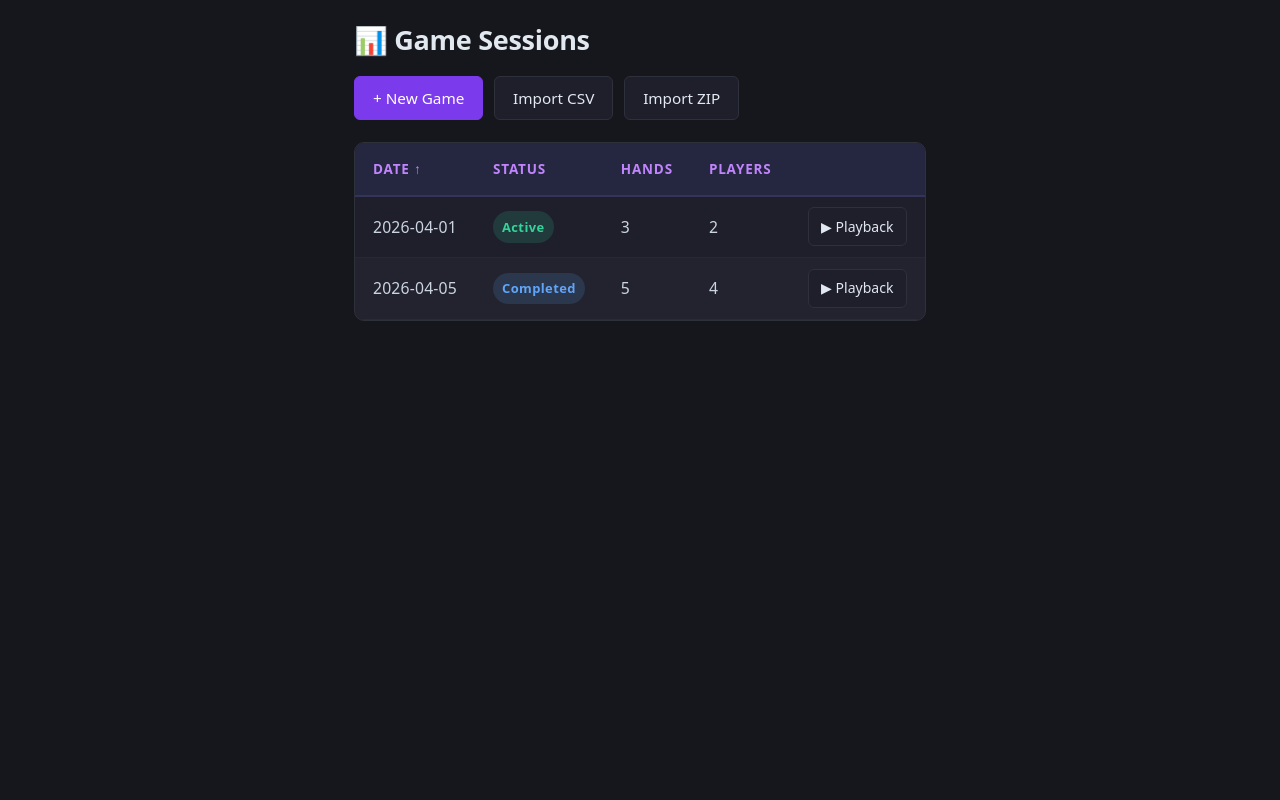
Test: DataView › opens ZIP upload modal on Import ZIP click
Check: the text "2026-04-01" is shown, box [355, 197, 475, 258]
Click the button "Import ZIP". click: {"x": 682, "y": 98}
box: [624, 76, 739, 120]
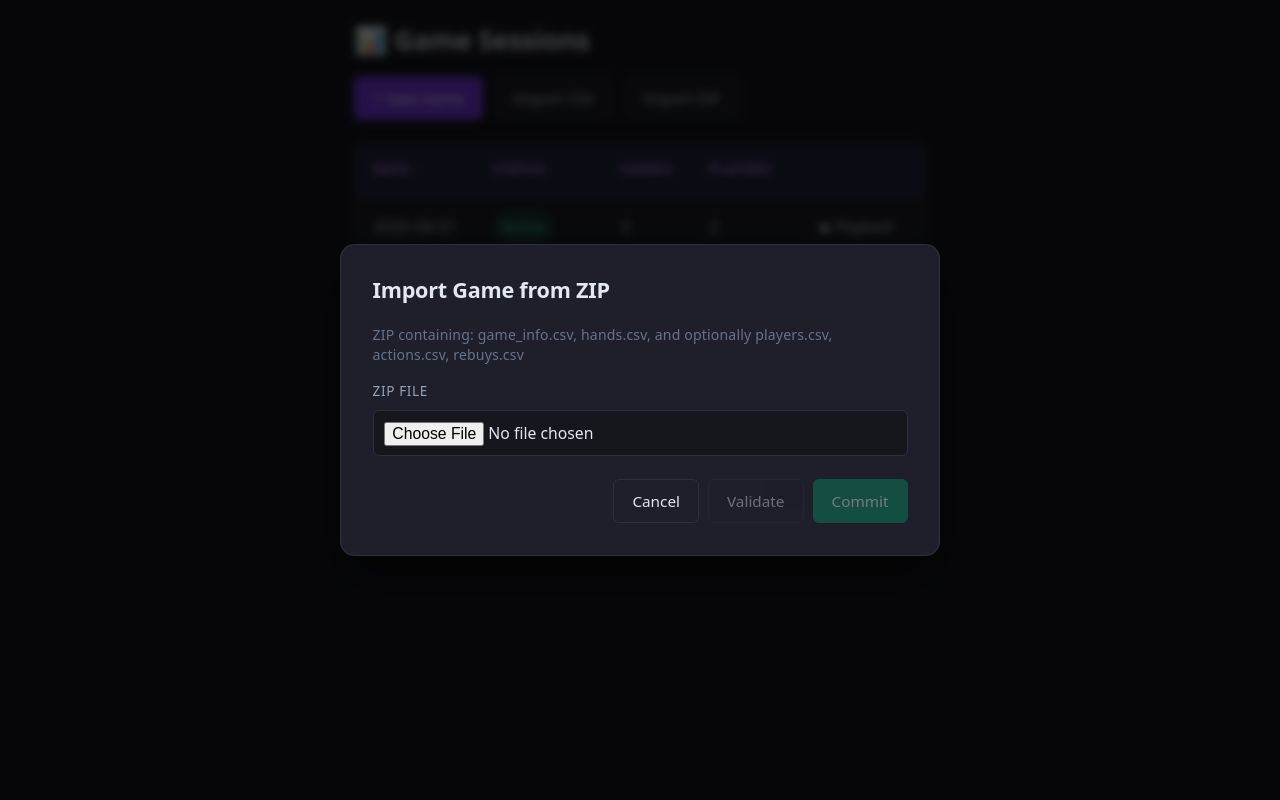
Check: the heading "Import Game from ZIP" is shown, box [372, 275, 610, 304]
